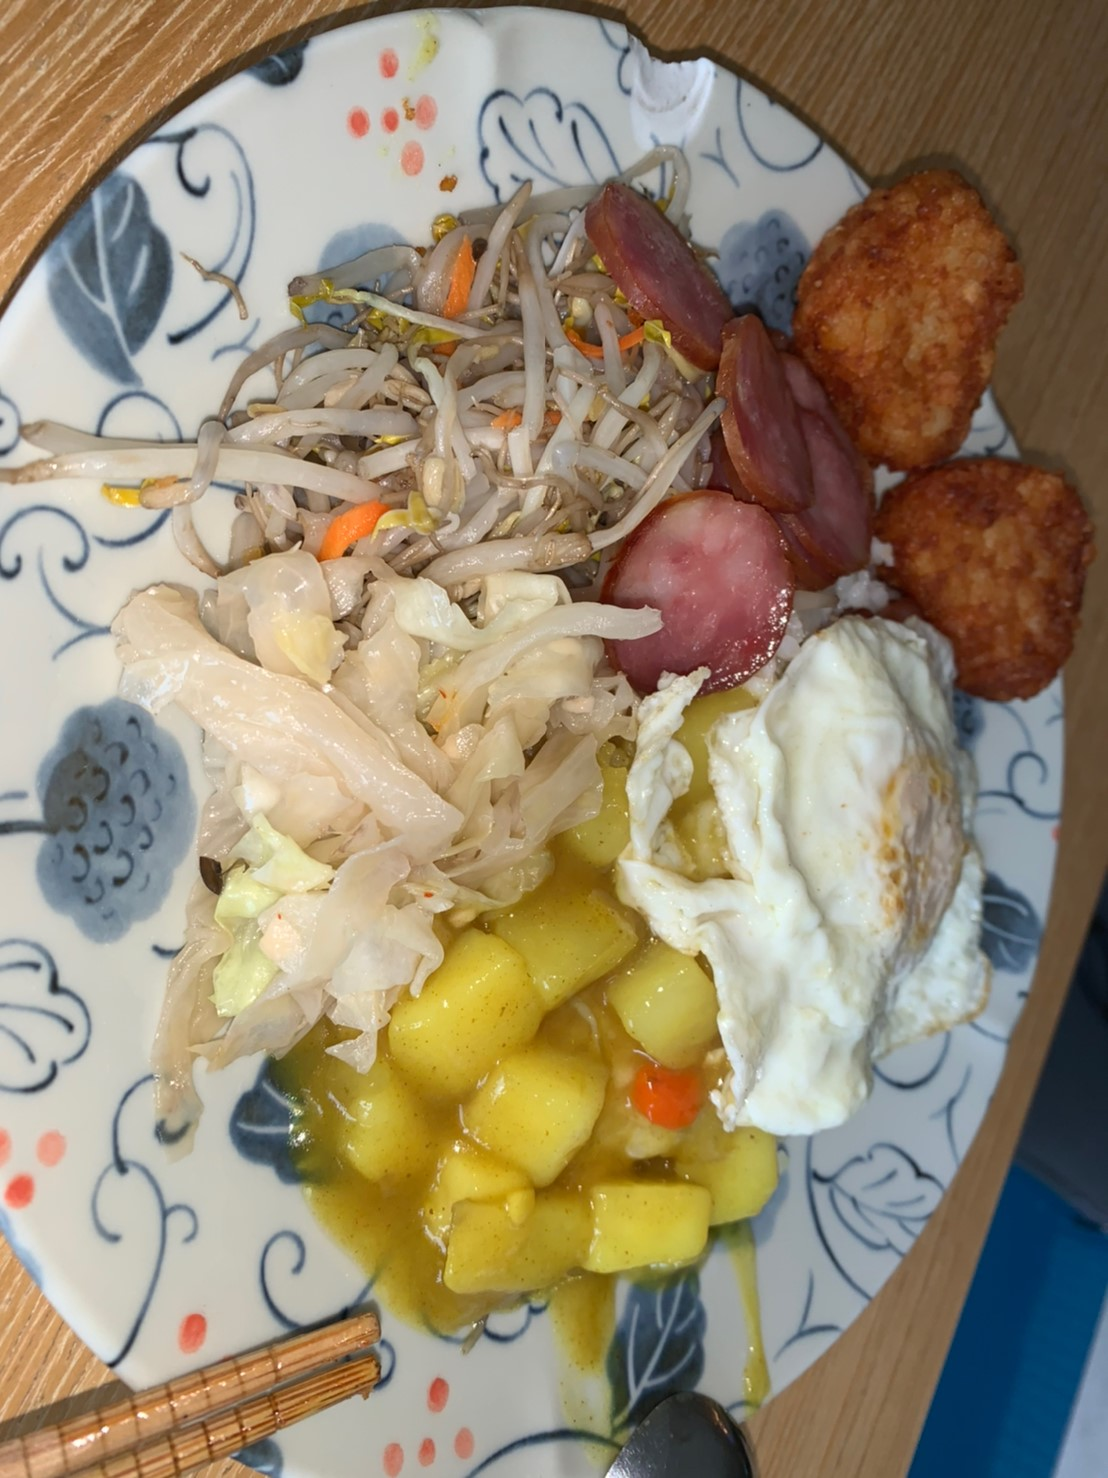chinese_cabbage: (191, 574, 566, 1009)
chinese_sausage: (599, 198, 881, 715)
curry: (427, 887, 715, 1340)
fried_eggs: (688, 610, 993, 1136)
mung_bean_sprouts: (306, 269, 605, 560)
triangle_hash_brown: (808, 157, 1093, 727)
